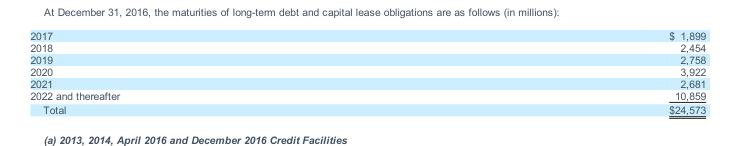table: (29, 29, 705, 115)
table column: (29, 29, 393, 115), (393, 29, 705, 115)
table row: (29, 88, 705, 102), (29, 102, 705, 115), (29, 40, 705, 52), (29, 52, 705, 64), (29, 64, 705, 76), (29, 76, 705, 88), (29, 29, 705, 40)
